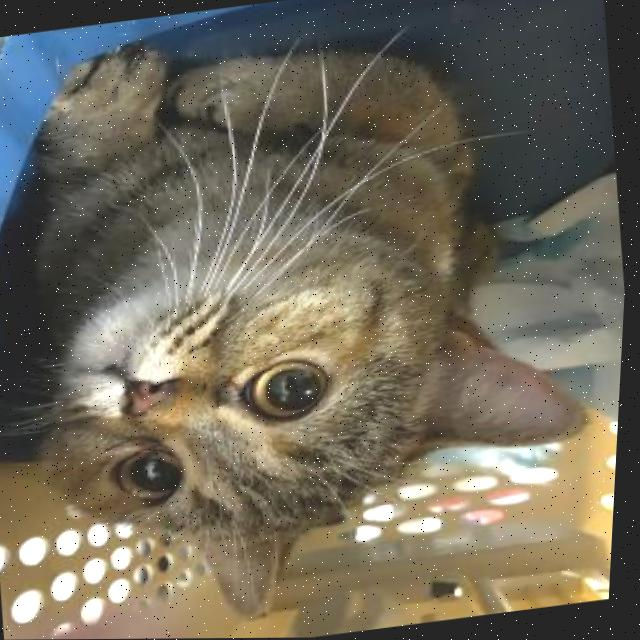Scottish Fold: (0, 0, 630, 640)
